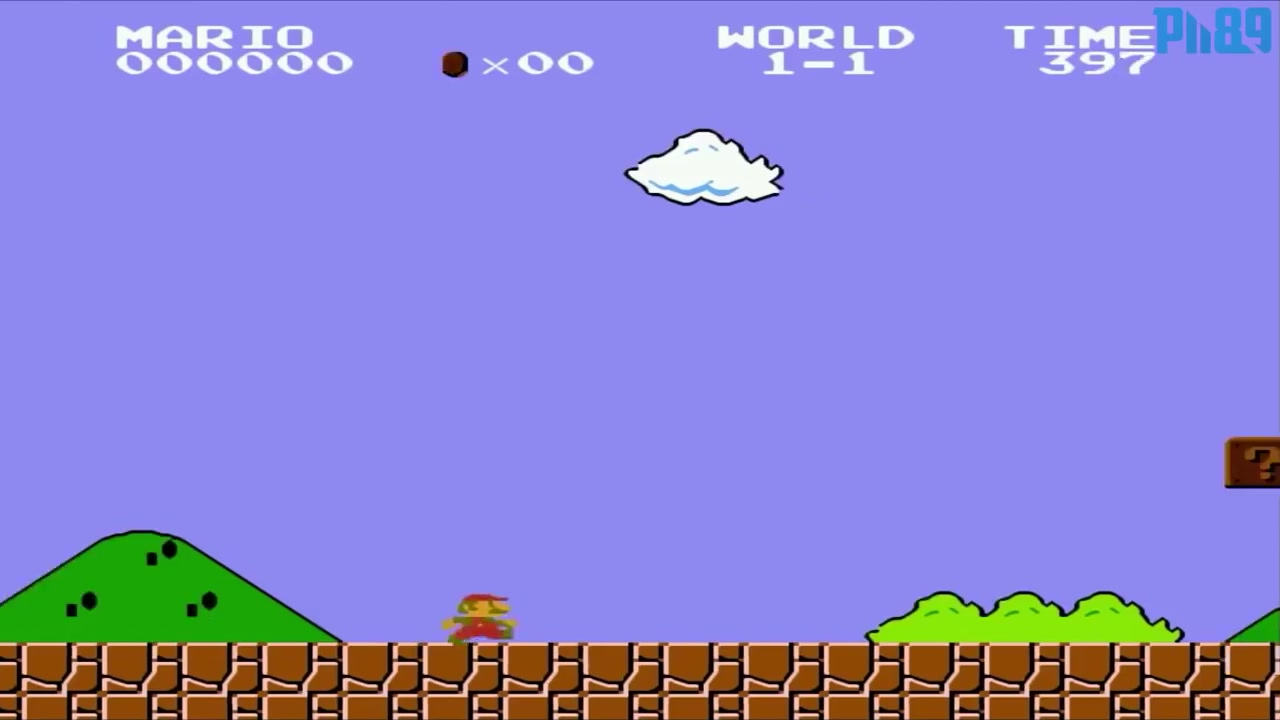mario: (439, 588, 522, 642)
